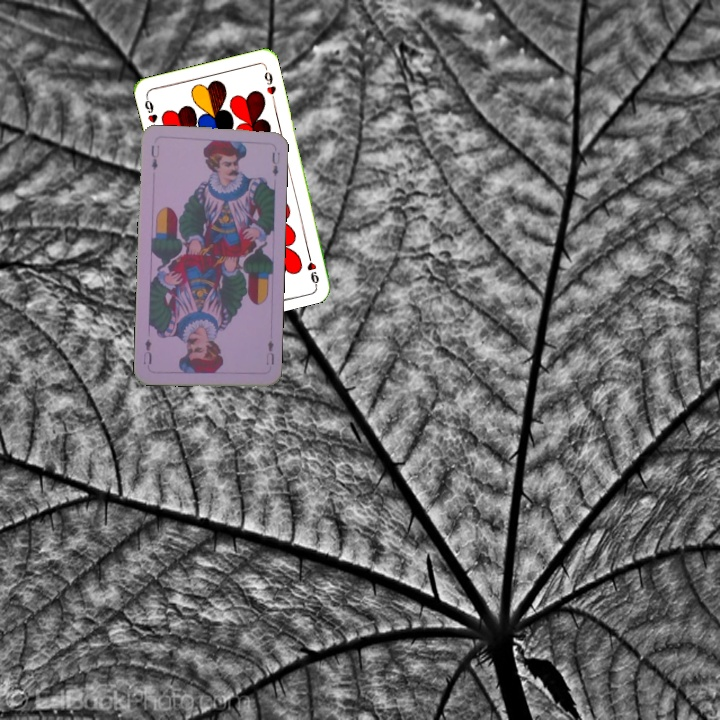EU: (147, 141, 162, 173), (262, 336, 277, 367)
H9: (140, 92, 160, 132), (303, 247, 322, 287)
